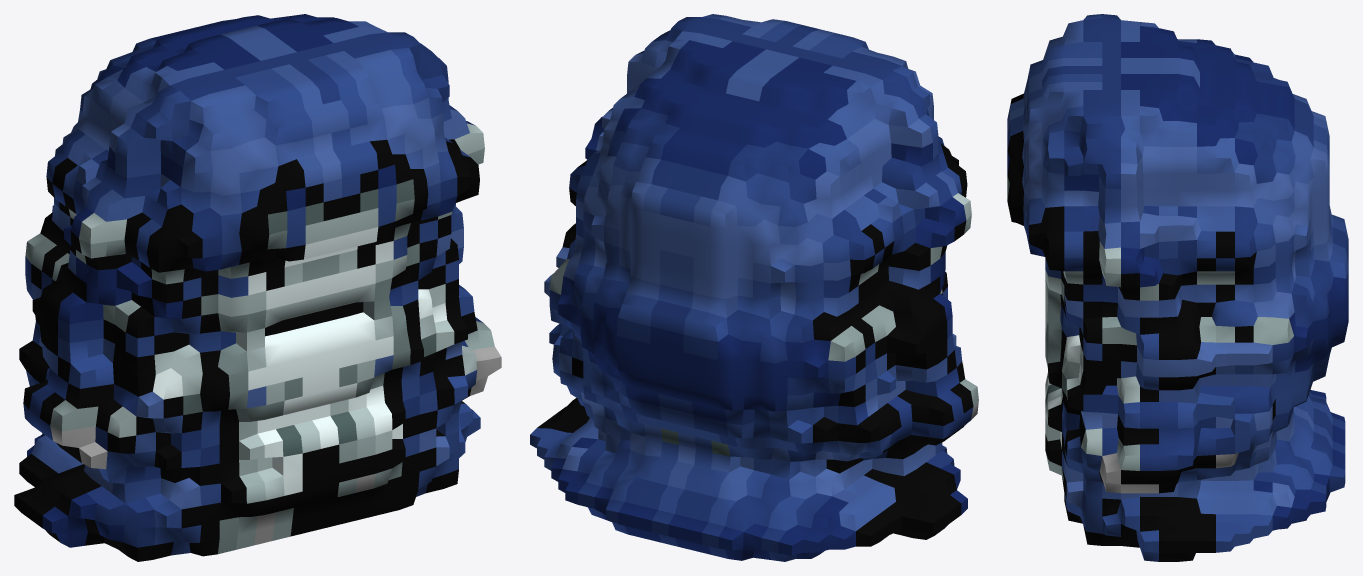
The model's file is Icon_754_03.obj.
The picture shows the model from 3 angles, left to right: view 1: azimuth 30°, elevation 25°; view 2: azimuth 150°, elevation 25°; view 3: azimuth 270°, elevation 25°; orthographic projection. The views are drawn at different scales.
Bounding box in the file's own units: 2.4 × 2.4 × 1.8.
Materials: 1 (1 with a texture image).
